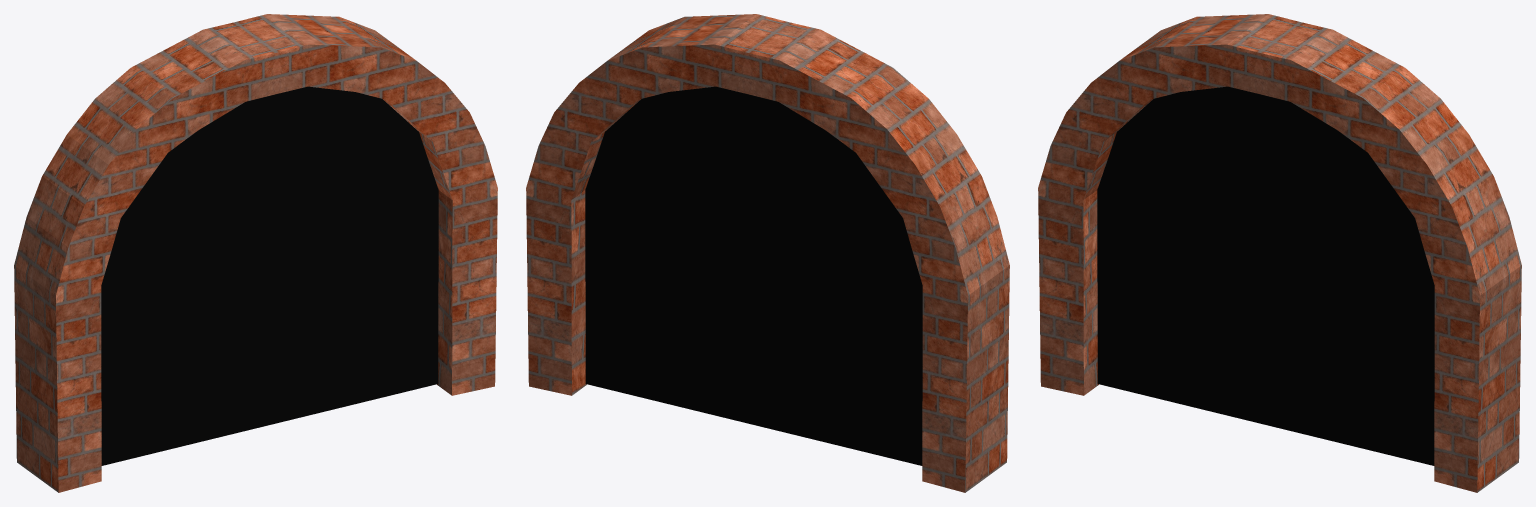
Rendered from tunnel.glb.
3 views of the same model, side by side, from view 1: azimuth 30°, elevation 25°; view 2: azimuth 150°, elevation 25°; view 3: azimuth 330°, elevation 25° (orthographic).
Parts seen in each view (by area): view 1: Cube.001, Cube; view 2: Cube.001, Cube; view 3: Cube.001, Cube.
Part boxes in pixels (x1,y1,x2,y2): Cube.001: (101,86,438,465); Cube: (14,14,497,492); Cube.001: (585,86,922,465); Cube: (526,14,1009,492); Cube.001: (1097,86,1434,465); Cube: (1038,14,1521,492).
Bounding box in the file's own units: 12.21 × 10.23 × 2.
2 materials, 2 textured.
